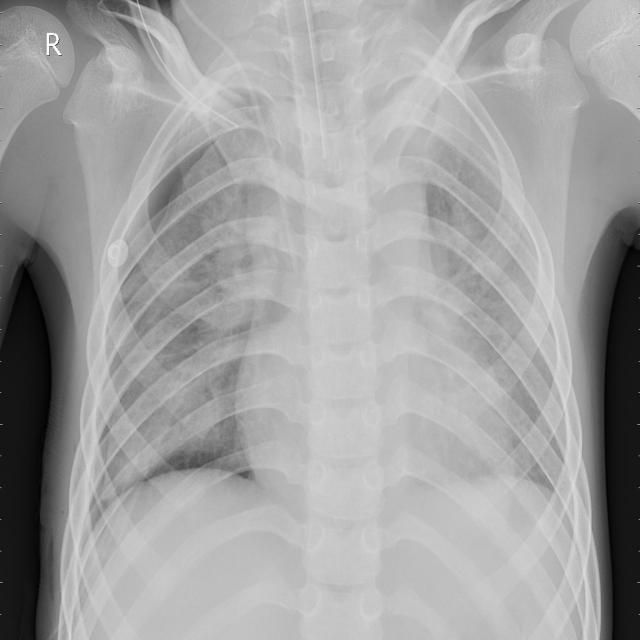low-pneumonia: (103, 348, 226, 484), (434, 204, 527, 368), (414, 80, 511, 195), (186, 168, 252, 332)
